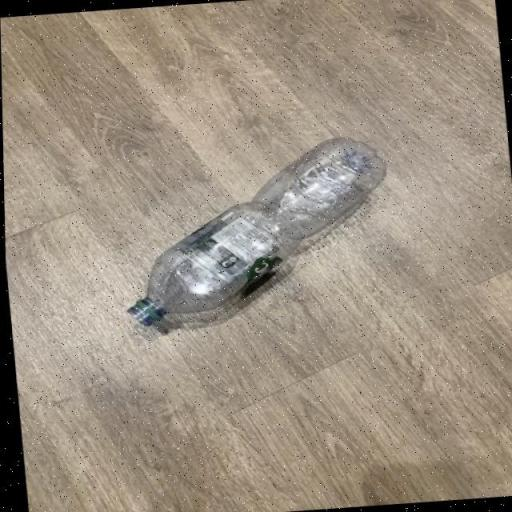plastic: (125, 138, 386, 326)
